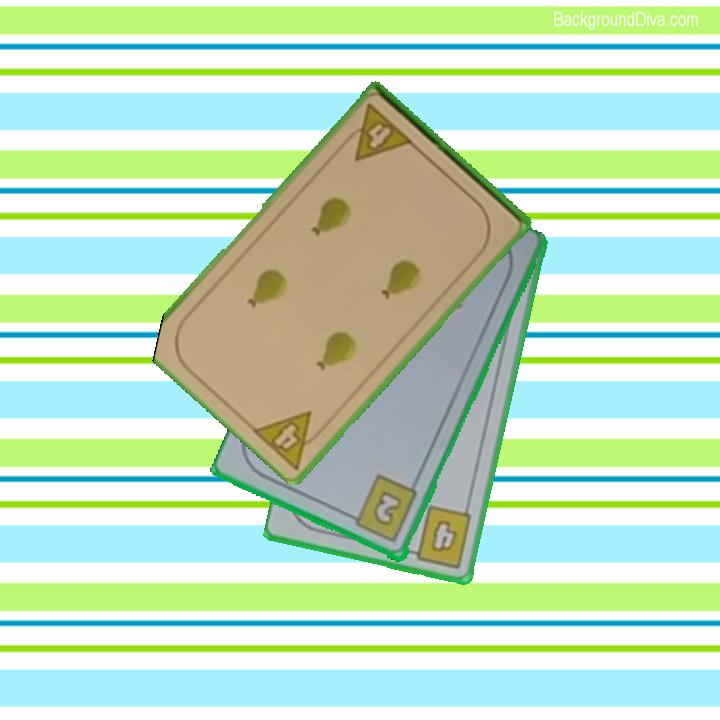2b: (344, 472, 421, 546)
4b: (403, 502, 475, 571)
4p: (249, 407, 332, 473), (338, 100, 416, 164)
